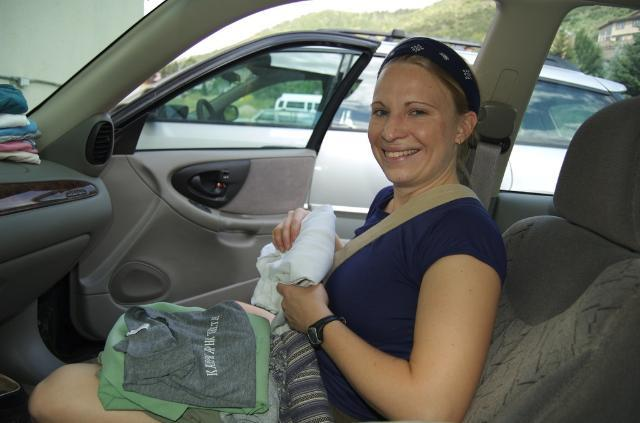SafeDriving: (403, 100, 438, 120), (366, 99, 394, 121)
Seatbelt: (270, 183, 480, 333)
